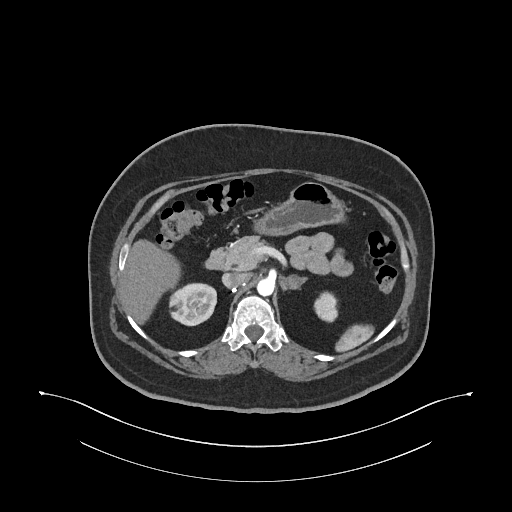Lesion: (165, 302, 181, 317)
